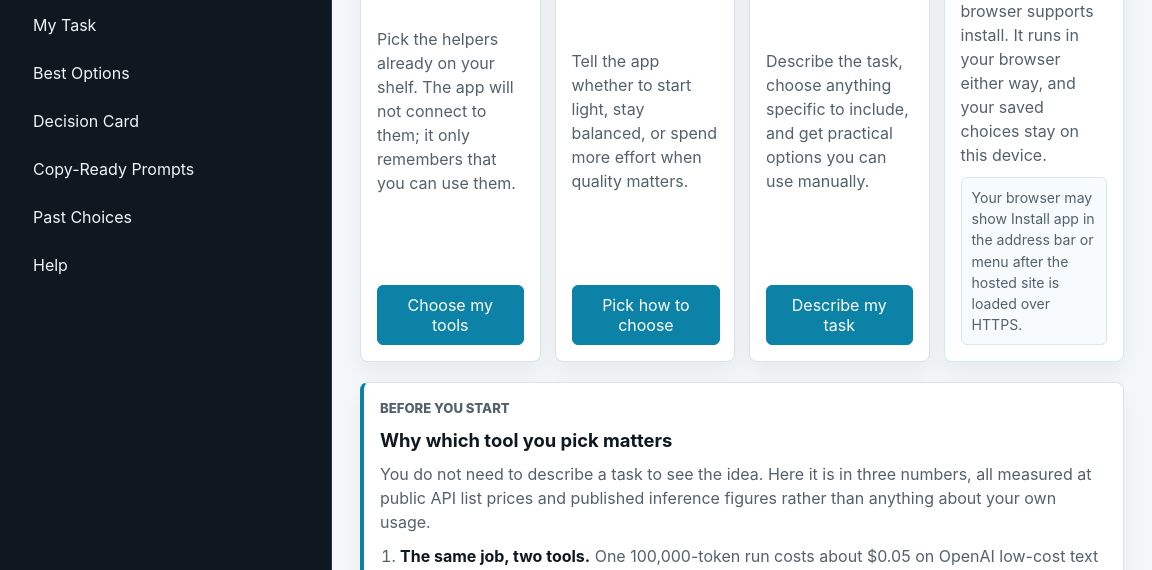
Test: App › shows an empty Past Choices state before route decisions are saved
(page scrolled)
Click the button "Past Choices" at point(82, 217), box [20,196,311,238]
(page scrolled)
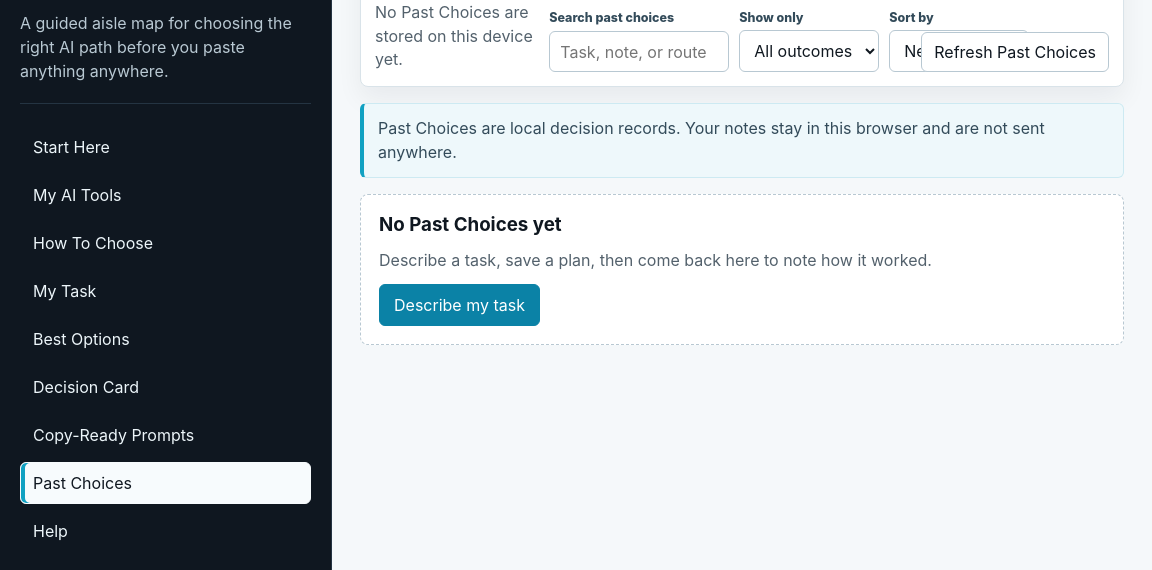
Expected: the button "Describe my task" is shown, [379,284,540,326]
Now the heading "No Past Choices yet" is shown, box [379,213,562,236]
